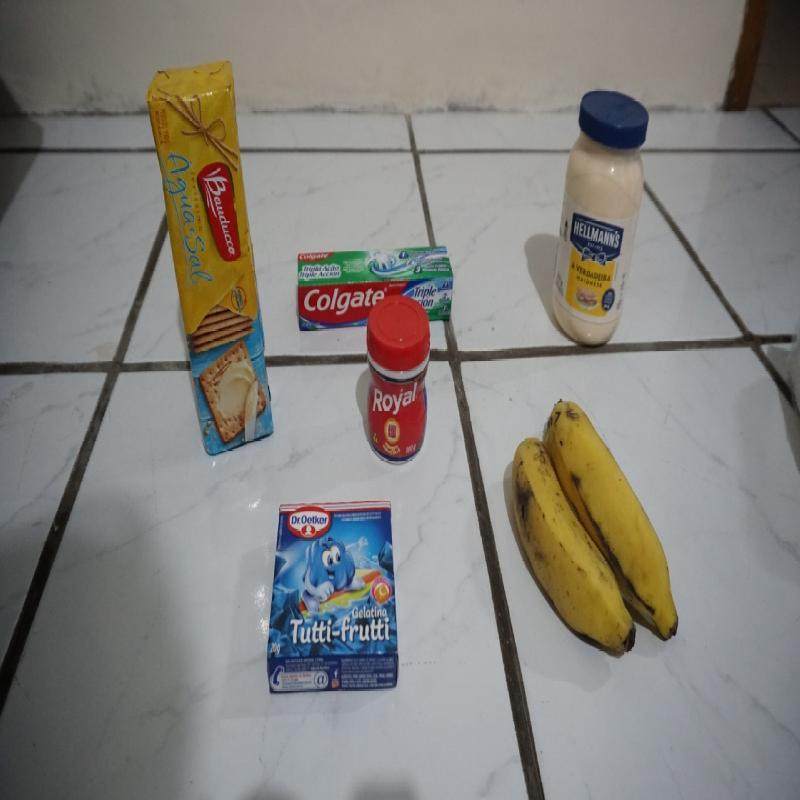Banana: (508, 395, 682, 665)
Cracker: (148, 59, 274, 454)
Gelatine: (266, 503, 404, 695)
Mayonnaise: (551, 88, 649, 349)
Toothpaste: (296, 249, 456, 330)
Yeast: (364, 295, 431, 464)
